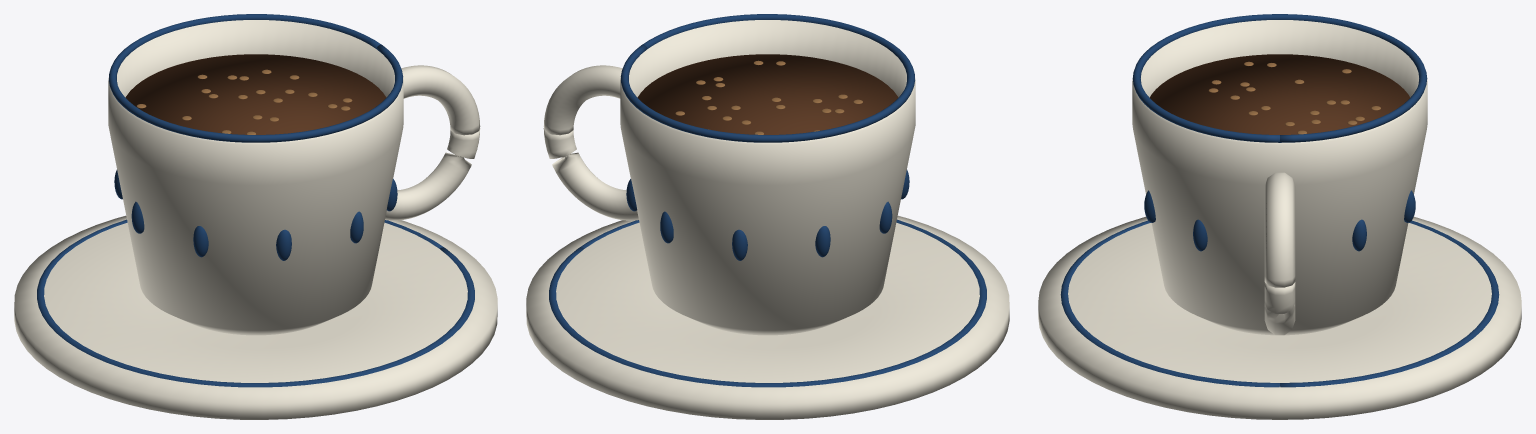
File: turkish_coffee.glb
3 views of the same model, side by side, from view 1: azimuth 30°, elevation 25°; view 2: azimuth 150°, elevation 25°; view 3: azimuth 270°, elevation 25° (orthographic).
Parts seen in each view (by area): view 1: CoffeeCup, CoffeeSaucer, CoffeeFoam, CupHandle, CoffeeCupRim, CobaltSaucerRim; view 2: CoffeeCup, CoffeeSaucer, CoffeeFoam, CupHandle, CoffeeCupRim, CobaltSaucerRim; view 3: CoffeeCup, CoffeeSaucer, CoffeeFoam, CoffeeCupRim, CupHandle, CobaltSaucerRim.
Part boxes in pixels (x1,y1,x2,y2): CoffeeCup: [108, 20, 403, 335]; CoffeeSaucer: [14, 215, 497, 419]; CoffeeFoam: [125, 54, 386, 134]; CupHandle: [385, 65, 480, 220]; CoffeeCupRim: [108, 14, 403, 142]; CobaltSaucerRim: [37, 219, 474, 387]; CoffeeCup: [620, 20, 915, 335]; CoffeeSaucer: [526, 215, 1009, 419]; CoffeeFoam: [637, 54, 898, 134]; CupHandle: [543, 65, 638, 220]; CoffeeCupRim: [620, 14, 915, 142]; CobaltSaucerRim: [549, 219, 986, 387]; CoffeeCup: [1132, 20, 1427, 335]; CoffeeSaucer: [1038, 216, 1521, 419]; CoffeeFoam: [1149, 54, 1410, 134]; CoffeeCupRim: [1132, 14, 1427, 142]; CupHandle: [1264, 172, 1295, 335]; CobaltSaucerRim: [1060, 220, 1499, 387].
Size of the model in its own units: 0.1112 by 0.0639 by 0.108.
